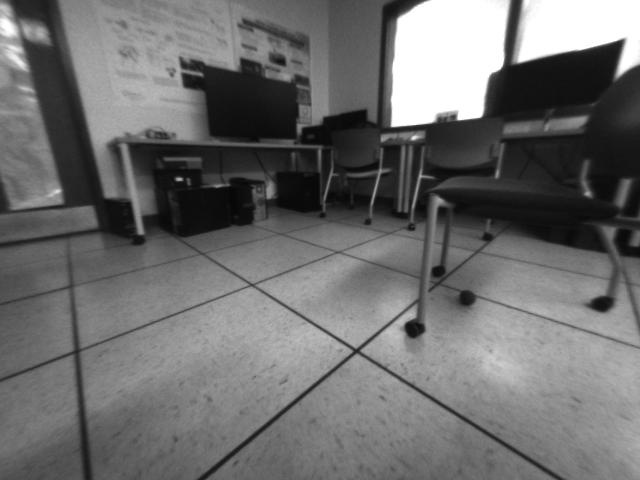dogtoy: (452, 283, 484, 307)
